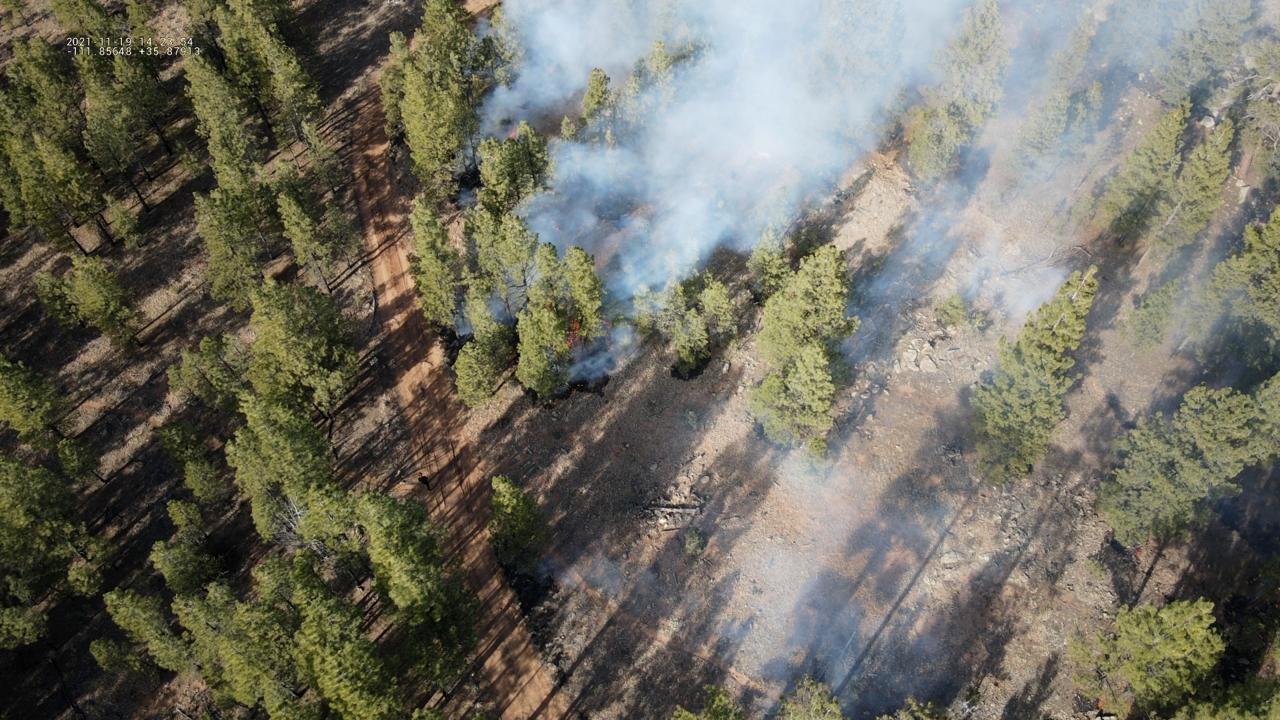fire: (563, 319, 582, 347), (507, 125, 518, 141), (1096, 694, 1106, 711), (601, 317, 612, 331)
smoke: (450, 0, 1280, 400), (530, 428, 953, 720)
